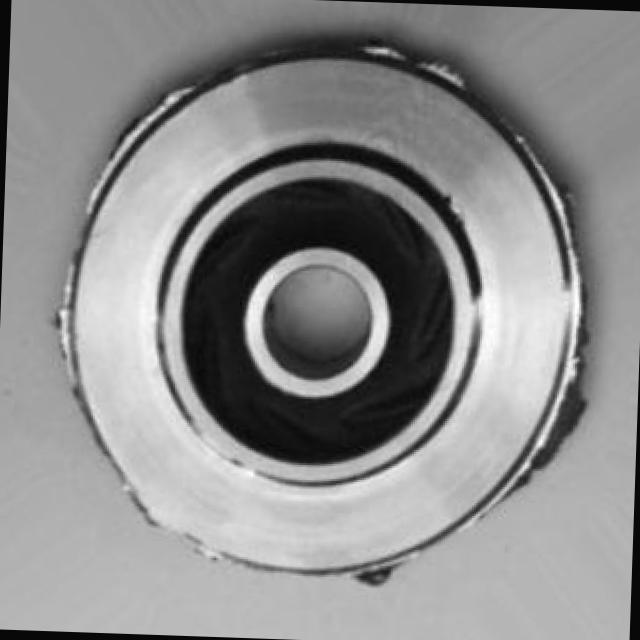Defect: (545, 364, 594, 459)
